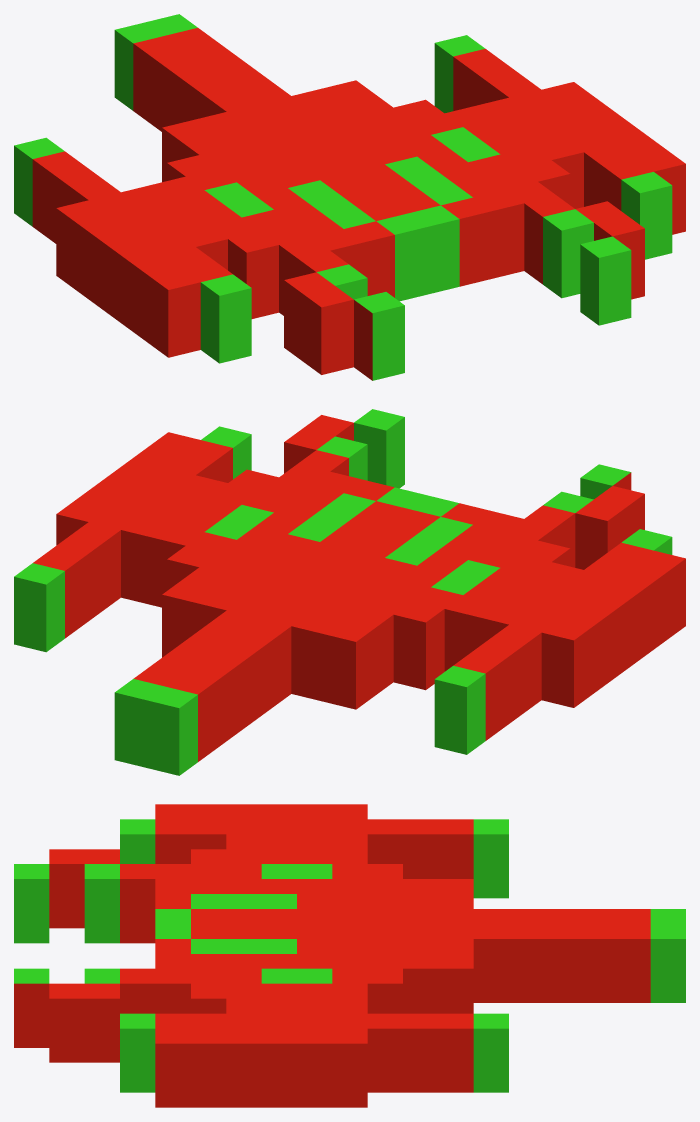
The model's file is Modelos_space_invaders5.fbx.
3 renders of one model, top to bottom at view 1: azimuth 30°, elevation 25°; view 2: azimuth 150°, elevation 25°; view 3: azimuth 270°, elevation 25°, orthographic. The views are drawn at different scales.
Parts seen in each view (by area): view 1: Plane.006; view 2: Plane.006; view 3: Plane.006.
Boxes of the visible parts, bbox=[...] form: Plane.006: bbox=[14, 14, 685, 380]; Plane.006: bbox=[14, 409, 685, 775]; Plane.006: bbox=[14, 804, 685, 1107].
Size of the model in its own units: 800 by 100 by 950.
